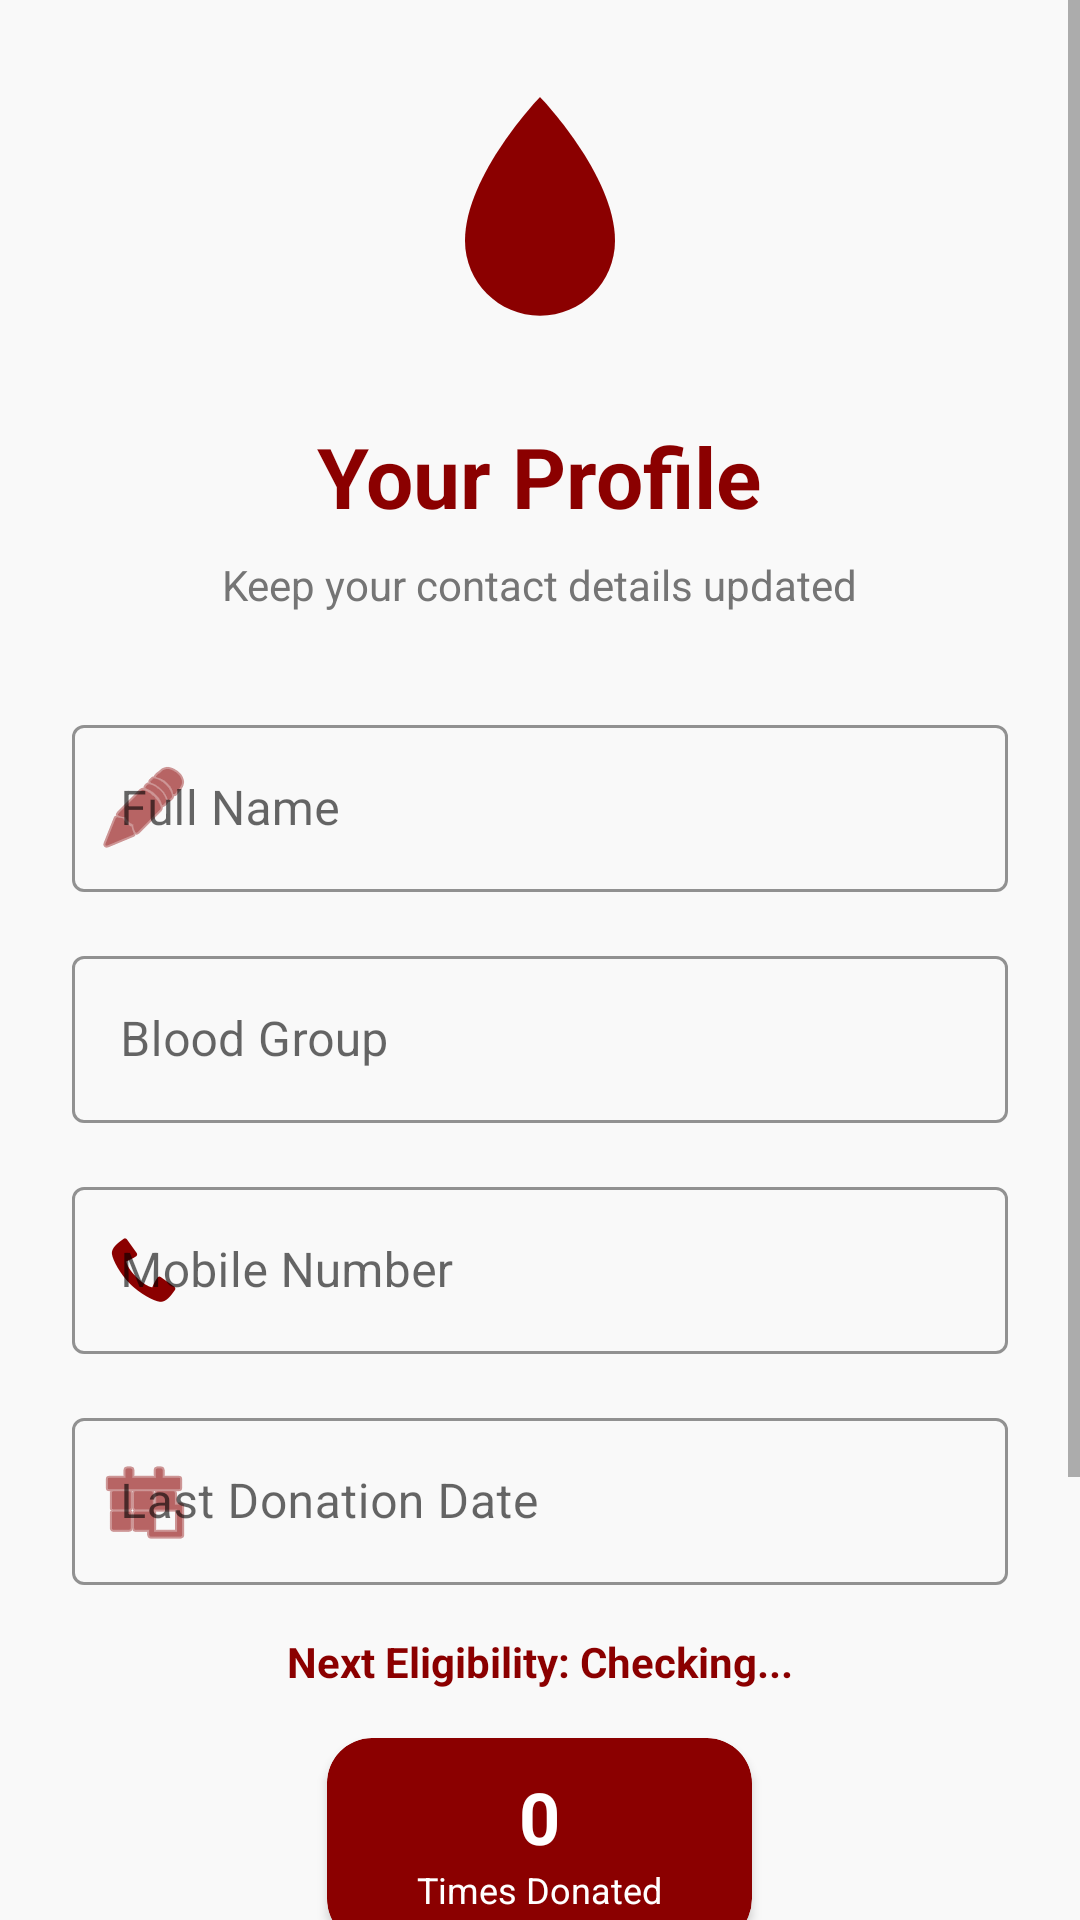

Where icons sit on this 1080px×1920px app screen, as bbox=(x1, y1, x2, y2):
blood drop: bbox=(465, 97, 615, 316)
